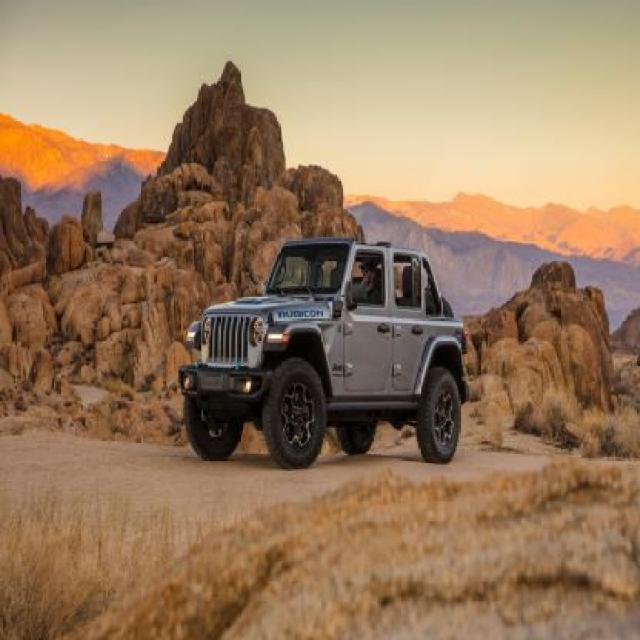Jeep: (177, 238, 471, 464)
